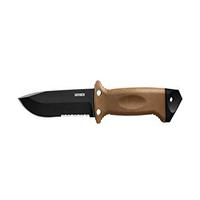knife: (10, 77, 197, 138)
